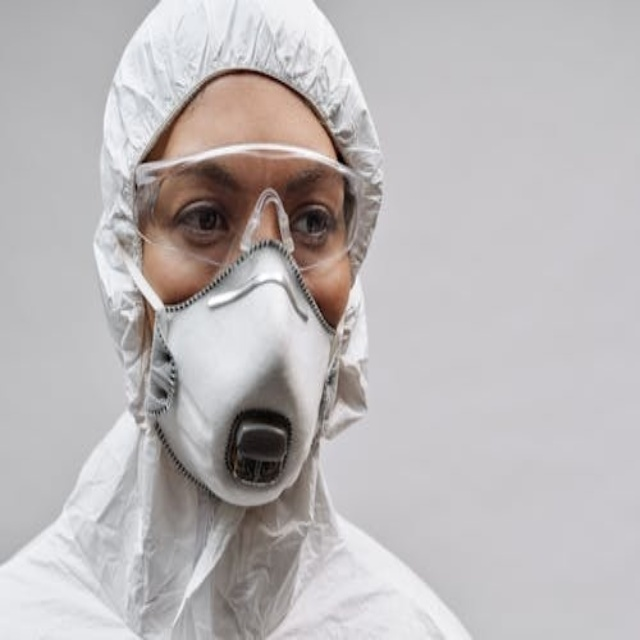Gafas: (130, 148, 370, 282)
Mascara: (148, 227, 340, 508)
